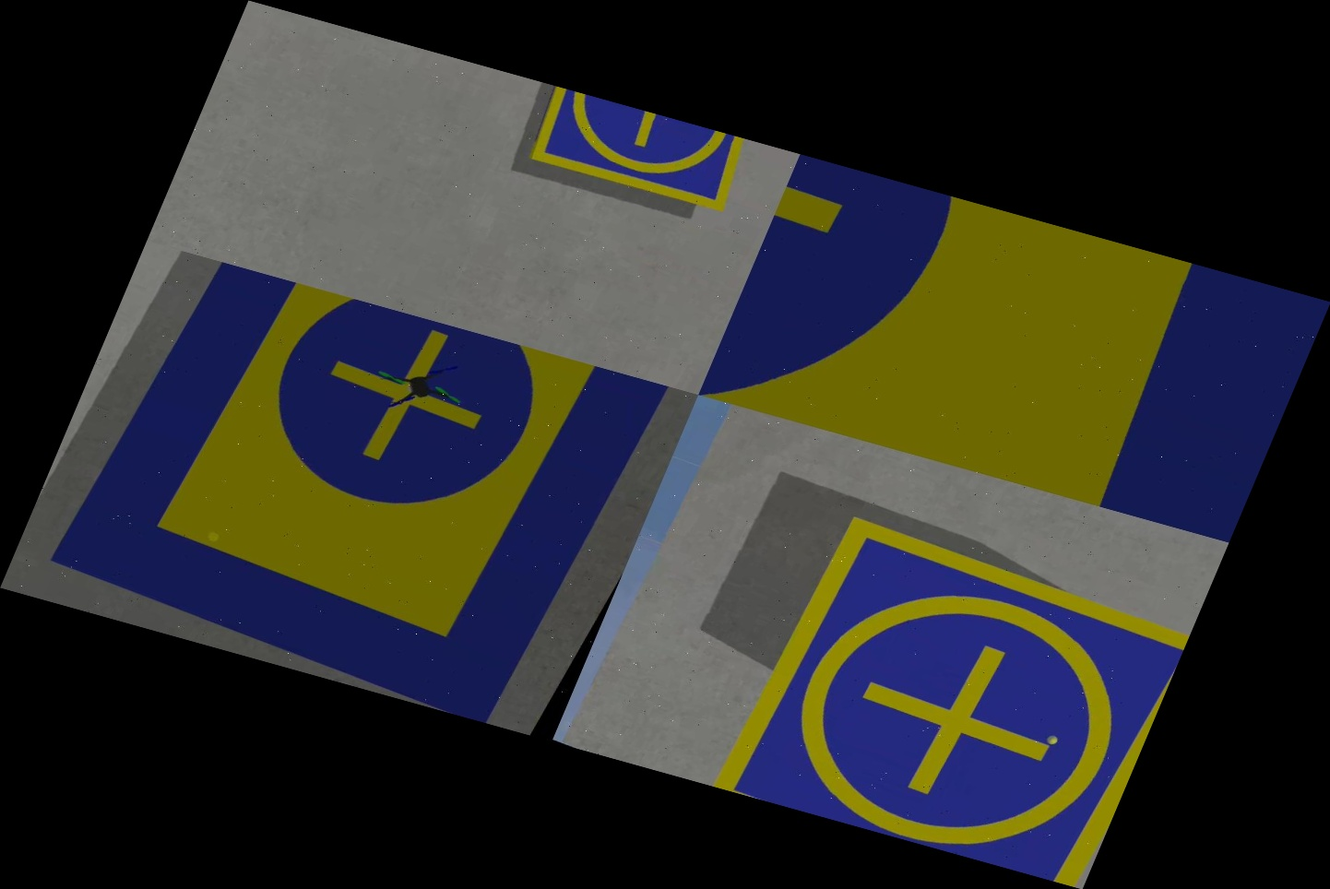large_base: (31, 250, 686, 738), (698, 154, 1330, 542)
small_base: (697, 498, 1201, 889), (490, 78, 771, 236)
